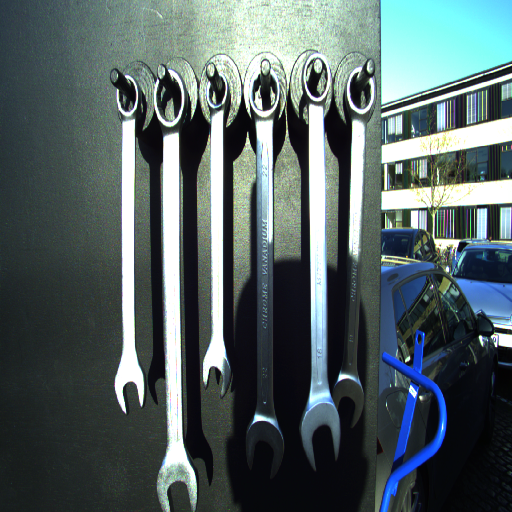bottom: (298, 396, 340, 470), (242, 417, 286, 477), (156, 457, 201, 512), (331, 364, 366, 431), (113, 365, 148, 414), (202, 346, 233, 400)
top: (151, 67, 190, 132), (247, 67, 285, 119), (344, 64, 378, 120), (299, 51, 333, 104), (113, 73, 143, 118), (204, 70, 231, 111)
